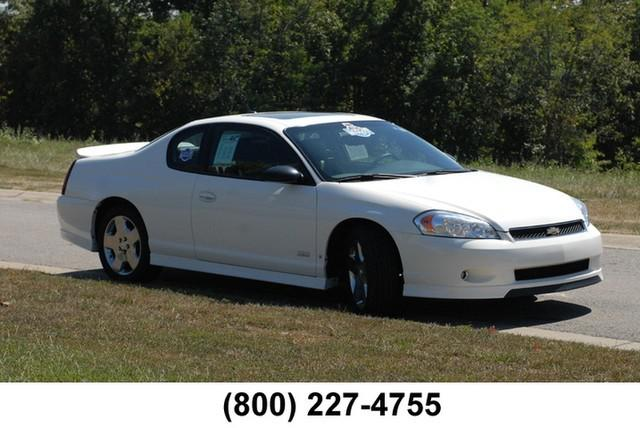Car: (49, 99, 618, 332)
